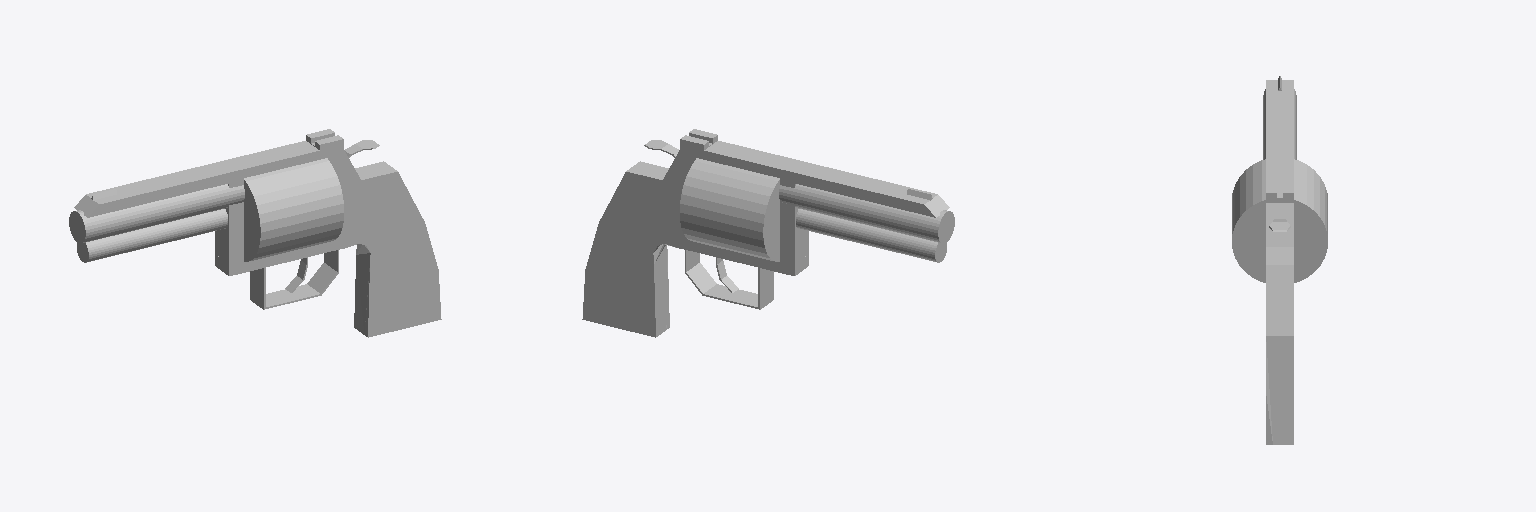
File: revolver0016.obj
The picture shows the model from 3 angles: view 1: azimuth 30°, elevation 25°; view 2: azimuth 150°, elevation 25°; view 3: azimuth 270°, elevation 25°; orthographic projection.
Parts seen in each view (by area): view 1: Cube, bulletCylinder, upperFrame, barrel, cleaningRod, Cube.002, Cube.001, triggerGuard.002, Cube.003; view 2: Cube, bulletCylinder, upperFrame, barrel, cleaningRod, Cube.002, Cube.001, triggerGuard.002, Cube.003; view 3: bulletCylinder, Cube, upperFrame.
Boxes of the visible parts, x1,y1,x2,y2 form: Cube: [250, 150, 441, 337]; bulletCylinder: [244, 158, 343, 261]; upperFrame: [74, 141, 343, 246]; barrel: [69, 184, 244, 243]; cleaningRod: [77, 209, 227, 262]; Cube.002: [215, 178, 243, 263]; Cube.001: [215, 243, 342, 275]; triggerGuard.002: [266, 284, 321, 308]; Cube.003: [306, 129, 343, 149]; Cube: [582, 150, 773, 337]; bulletCylinder: [680, 158, 779, 261]; upperFrame: [680, 141, 949, 246]; barrel: [779, 184, 954, 243]; cleaningRod: [796, 209, 946, 262]; Cube.002: [777, 176, 808, 263]; Cube.001: [681, 243, 808, 275]; triggerGuard.002: [702, 284, 758, 308]; Cube.003: [680, 129, 717, 149]; bulletCylinder: [1232, 159, 1327, 282]; Cube: [1266, 203, 1293, 444]; upperFrame: [1266, 80, 1293, 202].
Size of the model in its own units: 5.96 by 3.26 by 1.4.